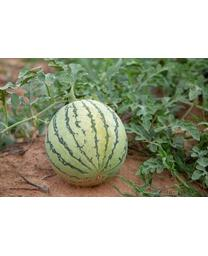watermelon: (45, 99, 128, 188)
